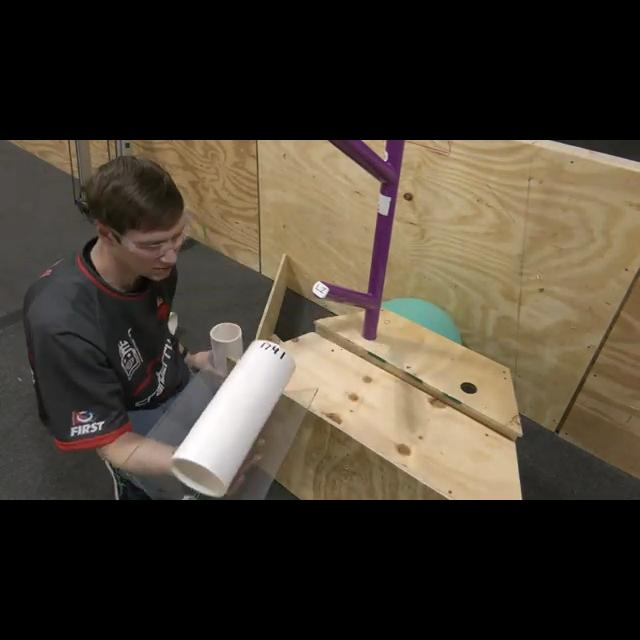CORAL: (168, 336, 296, 496), (212, 324, 242, 366)
